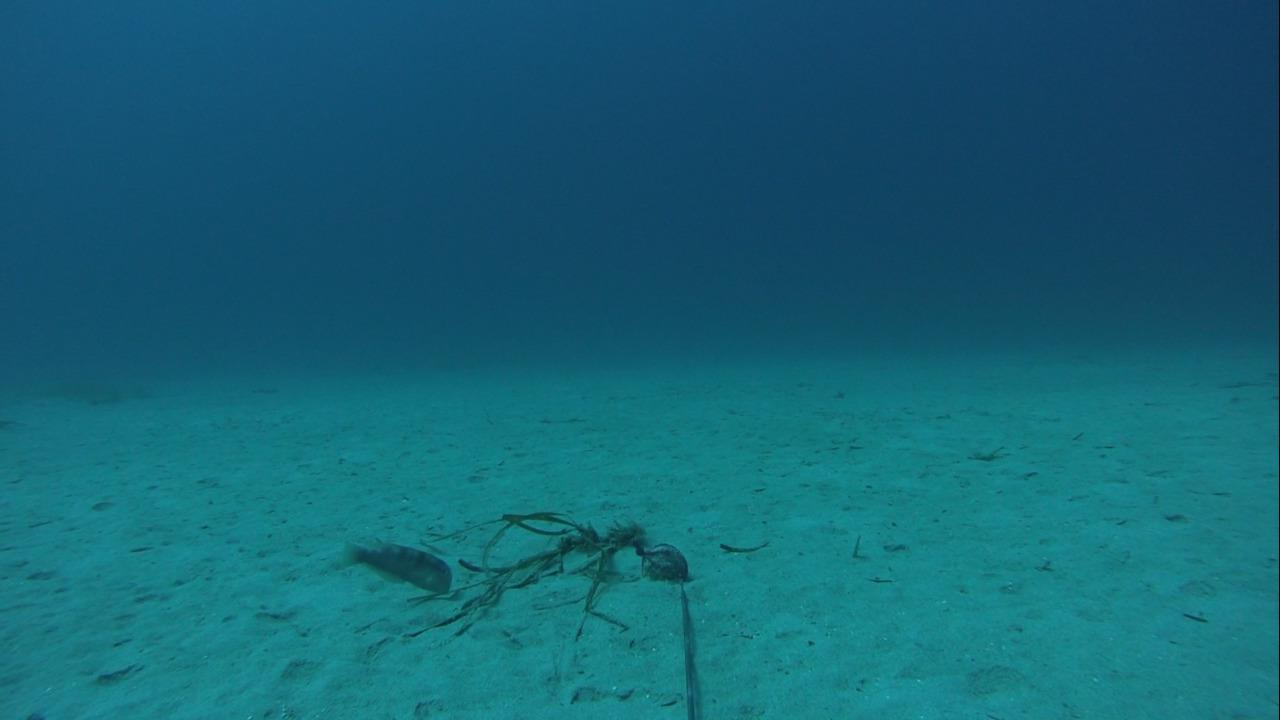raor: (336, 537, 456, 598)
